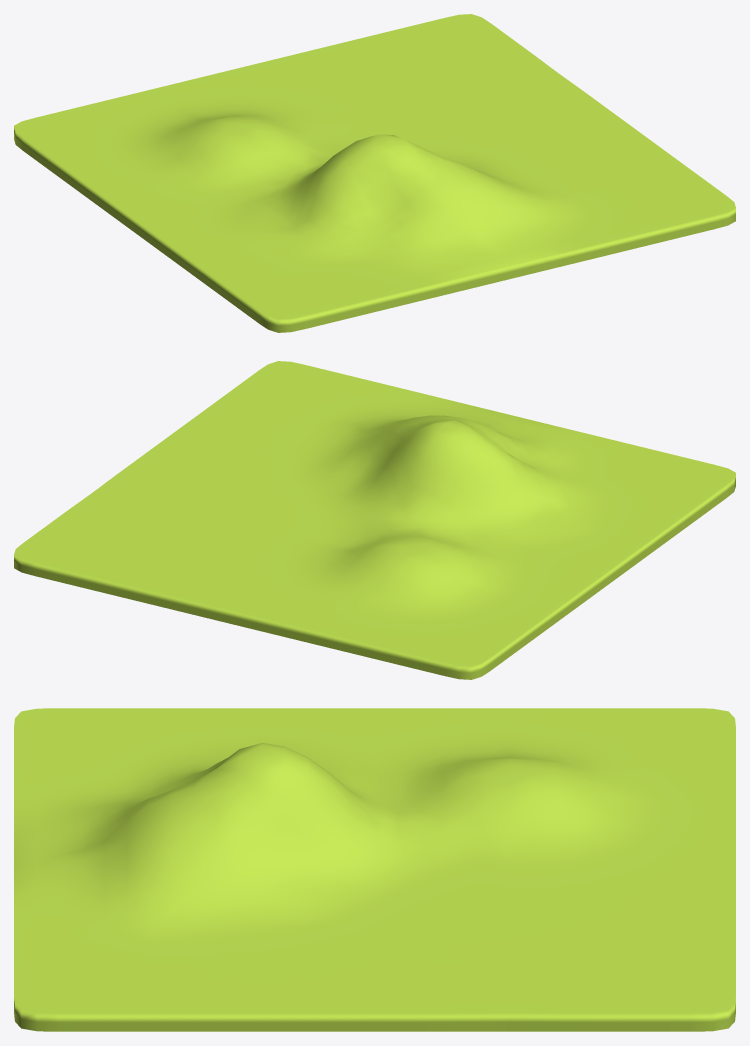
Rendered from Isle.glb.
3 renders of one model, top to bottom at view 1: azimuth 30°, elevation 25°; view 2: azimuth 150°, elevation 25°; view 3: azimuth 270°, elevation 25°, orthographic. The views are drawn at different scales.
Visible parts, largest first — view 1: Isle; view 2: Isle; view 3: Isle.
Boxes of the visible parts, <box> form: Isle: <box>14,14,735,332</box>; Isle: <box>14,361,735,679</box>; Isle: <box>14,708,735,1031</box>.
Size of what is drawn, in the model's own units: 238 by 39.16 by 238.
